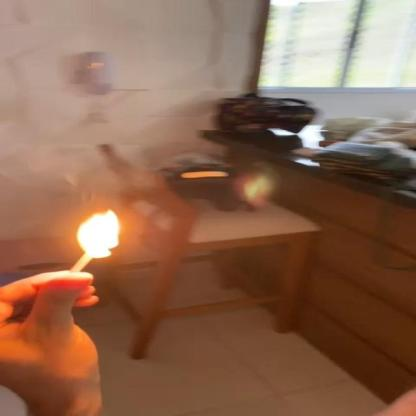fire: (74, 208, 122, 265)
